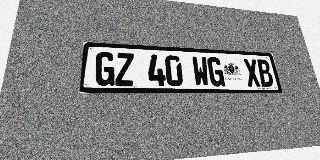0: (165, 55, 183, 86)
4: (147, 54, 166, 86)
B: (256, 59, 274, 87)
G: (94, 52, 115, 86), (207, 57, 225, 86)
W: (191, 56, 210, 86)
X: (243, 59, 261, 87)
Z: (115, 53, 134, 86)
